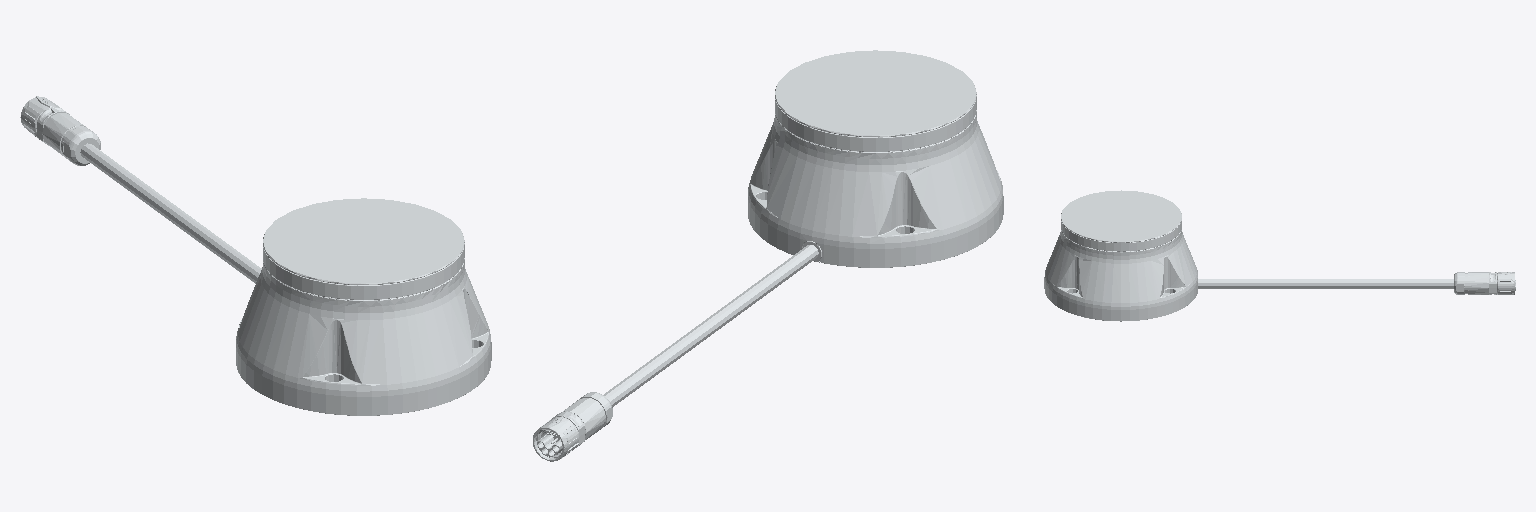
URDF robot description (eSeries_UR16e_15012020_URDF_ONLY):
<?xml version="1.0" encoding="utf-8"?>
<!-- This URDF was automatically created by SolidWorks to URDF Exporter! Originally created by [author] ([email redacted]) 
     Commit Version: 1.5.1-0-g916b5db  Build Version: 1.5.7152.31018
     For more information, please see http://wiki.ros.org/sw_urdf_exporter -->
<robot
  name="eSeries_UR16e_15012020_URDF_ONLY">
  <link
    name="base_link">
    <inertial>
      <origin
        xyz="8.0383E-05 0.0015073 0.059278"
        rpy="0 0 0" />
      <mass
        value="3.3528" />
      <inertia
        ixx="0.0088179"
        ixy="-2.2263E-06"
        ixz="7.1489E-06"
        iyy="0.0098684"
        iyz="0.00021615"
        izz="0.01352" />
    </inertial>
    <visual>
      <origin
        xyz="0 0 0"
        rpy="0 0 0" />
      <geometry>
        <mesh
          filename="package://eSeries_UR16e_15012020_URDF_ONLY/meshes/base_link.STL" />
      </geometry>
      <material
        name="">
        <color
          rgba="0.89804 0.91765 0.92941 1" />
      </material>
    </visual>
    <collision>
      <origin
        xyz="0 0 0"
        rpy="0 0 0" />
      <geometry>
        <mesh
          filename="package://eSeries_UR16e_15012020_URDF_ONLY/meshes/base_link.STL" />
      </geometry>
    </collision>
  </link>
  <link
    name="Shoulder1">
    <inertial>
      <origin
        xyz="-8.131E-07 0.082255 0.013094"
        rpy="0 0 0" />
      <mass
        value="7.369" />
      <inertia
        ixx="0.037903"
        ixy="-3.567E-07"
        ixz="6.5164E-07"
        iyy="0.032113"
        iyz="-0.00061449"
        izz="0.033598" />
    </inertial>
    <visual>
      <origin
        xyz="0 0 0"
        rpy="0 0 0" />
      <geometry>
        <mesh
          filename="package://eSeries_UR16e_15012020_URDF_ONLY/meshes/Shoulder1.STL" />
      </geometry>
      <material
        name="">
        <color
          rgba="0.89804 0.91765 0.92941 1" />
      </material>
    </visual>
    <collision>
      <origin
        xyz="0 0 0"
        rpy="0 0 0" />
      <geometry>
        <mesh
          filename="package://eSeries_UR16e_15012020_URDF_ONLY/meshes/Shoulder1.STL" />
      </geometry>
    </collision>
  </link>
  <joint
    name="J1"
    type="revolute">
    <origin
      xyz="0 0 0.0993"
      rpy="1.5708 0 0" />
    <parent
      link="base_link" />
    <child
      link="Shoulder1" />
    <axis
      xyz="0 1 0" />
    <limit
      lower="-6.28"
      upper="6.28"
      effort="0"
      velocity="2.094" />
    <dynamics
      damping="1.5"
      friction="1" />
    <safety_controller
      soft_upper="6"
      soft_lower="-6"
      k_velocity="2.094" />
  </joint>
  <link
    name="Shoulder2">
    <inertial>
      <origin
        xyz="-4.978E-08 0.18974 0.081646"
        rpy="0 0 0" />
      <mass
        value="10.45" />
      <inertia
        ixx="0.77144"
        ixy="-6.1908E-06"
        ixz="2.1756E-07"
        iyy="0.055717"
        iyz="0.0015624"
        izz="0.76424" />
    </inertial>
    <visual>
      <origin
        xyz="0 0 0"
        rpy="0 0 0" />
      <geometry>
        <mesh
          filename="package://eSeries_UR16e_15012020_URDF_ONLY/meshes/Shoulder2.STL" />
      </geometry>
      <material
        name="">
        <color
          rgba="0.89804 0.91765 0.92941 1" />
      </material>
    </visual>
    <collision>
      <origin
        xyz="0 0 0"
        rpy="0 0 0" />
      <geometry>
        <mesh
          filename="package://eSeries_UR16e_15012020_URDF_ONLY/meshes/Shoulder2.STL" />
      </geometry>
    </collision>
  </link>
  <joint
    name="J2"
    type="revolute">
    <origin
      xyz="0 0.0814 0.0946"
      rpy="0 0 1.5708" />
    <parent
      link="Shoulder1" />
    <child
      link="Shoulder2" />
    <axis
      xyz="0 0 1" />
    <limit
      lower="-6.28"
      upper="6.28"
      effort="0"
      velocity="2.094" />
    <dynamics
      damping="1.5"
      friction="1" />
    <safety_controller
      soft_upper="6"
      soft_lower="-6"
      k_velocity="2.094" />
  </joint>
  <link
    name="Elbow">
    <inertial>
      <origin
        xyz="-1.5433E-05 0.16483 -0.048444"
        rpy="0 0 0" />
      <mass
        value="4.321" />
      <inertia
        ixx="0.18067"
        ixy="-1.5315E-05"
        ixz="-4.3945E-06"
        iyy="0.013863"
        iyz="0.0099125"
        izz="0.1784" />
    </inertial>
    <visual>
      <origin
        xyz="0 0 0"
        rpy="0 0 0" />
      <geometry>
        <mesh
          filename="package://eSeries_UR16e_15012020_URDF_ONLY/meshes/Elbow.STL" />
      </geometry>
      <material
        name="">
        <color
          rgba="0.89804 0.91765 0.92941 1" />
      </material>
    </visual>
    <collision>
      <origin
        xyz="0 0 0"
        rpy="0 0 0" />
      <geometry>
        <mesh
          filename="package://eSeries_UR16e_15012020_URDF_ONLY/meshes/Elbow.STL" />
      </geometry>
    </collision>
  </link>
  <joint
    name="J3"
    type="revolute">
    <origin
      xyz="0 0.4784 0"
      rpy="0 0 0" />
    <parent
      link="Shoulder2" />
    <child
      link="Elbow" />
    <axis
      xyz="0 0 1" />
    <limit
      lower="-6.28"
      upper="6.28"
      effort="0"
      velocity="3.141" />
    <dynamics
      damping="1.5"
      friction="1" />
    <safety_controller
      soft_upper="6"
      soft_lower="-6"
      k_velocity="3.141" />
  </joint>
  <link
    name="Wrist1">
    <inertial>
      <origin
        xyz="6.1842E-06 0.0015493 0.063631"
        rpy="0 0 0" />
      <mass
        value="2.180" />
      <inertia
        ixx="0.0049204"
        ixy="6.4665E-08"
        ixz="1.101E-07"
        iyy="0.0040693"
        iyz="-0.00012544"
        izz="0.0035835" />
    </inertial>
    <visual>
      <origin
        xyz="0 0 0"
        rpy="0 0 0" />
      <geometry>
        <mesh
          filename="package://eSeries_UR16e_15012020_URDF_ONLY/meshes/Wrist1.STL" />
      </geometry>
      <material
        name="">
        <color
          rgba="0.89804 0.91765 0.92941 1" />
      </material>
    </visual>
    <collision>
      <origin
        xyz="0 0 0"
        rpy="0 0 0" />
      <geometry>
        <mesh
          filename="package://eSeries_UR16e_15012020_URDF_ONLY/meshes/Wrist1.STL" />
      </geometry>
    </collision>
  </link>
  <joint
    name="J4"
    type="revolute">
    <origin
      xyz="0 0.36 0"
      rpy="0 0 1.5707963267949" />
    <parent
      link="Elbow" />
    <child
      link="Wrist1" />
    <axis
      xyz="0 0 1" />
    <limit
      lower="-6.28"
      upper="6.28"
      effort="0"
      velocity="3.141" />
    <dynamics
      damping="1"
      friction="1" />
    <safety_controller
      soft_upper="6"
      soft_lower="-6"
      k_velocity="3.141" />
  </joint>
  <link
    name="Wrist2">
    <inertial>
      <origin
        xyz="1.976E-07 0.1069 0.0017385"
        rpy="0 0 0" />
      <mass
        value="2.033" />
      <inertia
        ixx="0.0038851"
        ixy="-6.9243E-08"
        ixz="-3.5564E-08"
        iyy="0.0033105"
        iyz="-0.00010011"
        izz="0.0030368" />
    </inertial>
    <visual>
      <origin
        xyz="0 0 0"
        rpy="0 0 0" />
      <geometry>
        <mesh
          filename="package://eSeries_UR16e_15012020_URDF_ONLY/meshes/Wrist2.STL" />
      </geometry>
      <material
        name="">
        <color
          rgba="0.89804 0.91765 0.92941 1" />
      </material>
    </visual>
    <collision>
      <origin
        xyz="0 0 0"
        rpy="0 0 0" />
      <geometry>
        <mesh
          filename="package://eSeries_UR16e_15012020_URDF_ONLY/meshes/Wrist2.STL" />
      </geometry>
    </collision>
  </link>
  <joint
    name="J5"
    type="revolute">
    <origin
      xyz="0 0.00334216106109189 0.0795500000000001"
      rpy="0 0 0" />
    <parent
      link="Wrist1" />
    <child
      link="Wrist2" />
    <axis
      xyz="0 1 0" />
    <limit
      lower="-6.28"
      upper="6.28"
      effort="0"
      velocity="3.141" />
    <dynamics
      damping="1.5"
      friction="1" />
    <safety_controller
      soft_upper="6"
      soft_lower="-6"
      k_velocity="3.141" />
  </joint>
  <link
    name="Wrist3">
    <inertial>
      <origin
        xyz="5.5566E-10 -7.868E-05 0.027763"
        rpy="0 0 0" />
      <mass
        value="0.907" />
      <inertia
        ixx="0.00071366"
        ixy="-4.1E-11"
        ixz="1.3847E-11"
        iyy="0.00071623"
        iyz="1.3964E-07"
        izz="0.0009382" />
    </inertial>
    <visual>
      <origin
        xyz="0 0 0"
        rpy="0 0 0" />
      <geometry>
        <mesh
          filename="package://eSeries_UR16e_15012020_URDF_ONLY/meshes/Wrist3.STL" />
      </geometry>
      <material
        name="">
        <color
          rgba="0.89804 0.91765 0.92941 1" />
      </material>
    </visual>
    <collision>
      <origin
        xyz="0 0 0"
        rpy="0 0 0" />
      <geometry>
        <mesh
          filename="package://eSeries_UR16e_15012020_URDF_ONLY/meshes/Wrist3.STL" />
      </geometry>
    </collision>
  </link>
  <joint
    name="J6"
    type="revolute">
    <origin
      xyz="0 0.116507838938908 0.0569000000000009"
      rpy="0 0 0" />
    <parent
      link="Wrist2" />
    <child
      link="Wrist3" />
    <axis
      xyz="0 0 1" />
    <limit
      lower="-6.28"
      upper="6.28"
      effort="0"
      velocity="3.141" />
    <dynamics
      damping="1.5"
      friction="1" />
    <safety_controller
      soft_upper="6"
      soft_lower="-6"
      k_velocity="3.141" />
  </joint>
</robot>

--- Facts derived from the render (not from the file) ---
The picture shows the robot from 3 angles, left to right: view 1: azimuth 30°, elevation 25°; view 2: azimuth 150°, elevation 25°; view 3: azimuth 270°, elevation 25°; orthographic projection.
Robot: eSeries_UR16e_15012020_URDF_ONLY — 7 links, 6 joints (6 revolute); root link base_link; default pose: every joint at zero.
Visible links, largest first — view 1: base_link; view 2: base_link; view 3: base_link.
Link boxes in pixels (x1,y1,x2,y2): base_link: (20, 96, 491, 415); base_link: (533, 50, 1003, 461); base_link: (1044, 190, 1515, 321).
Bounding box of the posed robot: 0.19 × 0.5815 × 0.1061 m (x, y, z).
1 mesh visuals loaded from 7 distinct referenced files (1 binary STL); not drawn: 6 (reference not matched to a file when rendering).